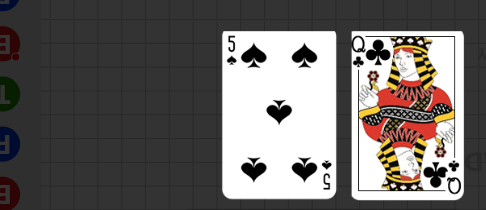5S: (321, 159, 333, 192), (227, 35, 239, 68)
QC: (353, 31, 397, 78), (420, 152, 464, 198)
